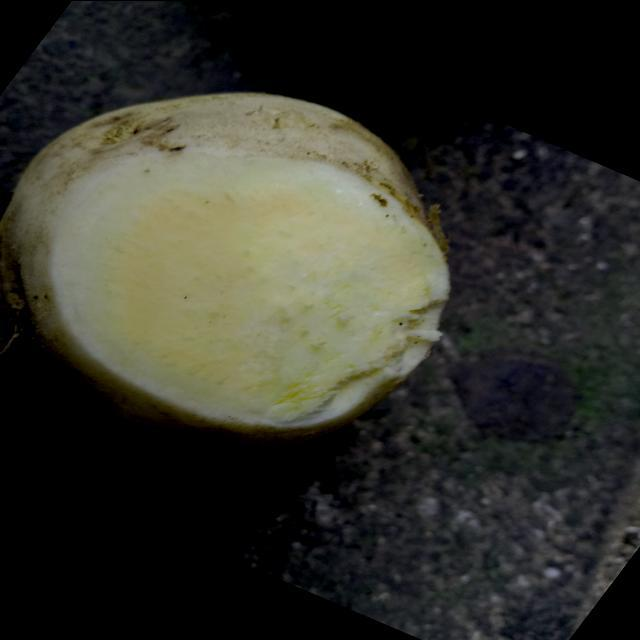Healthy Sweet Potato: (52, 155, 450, 428)
